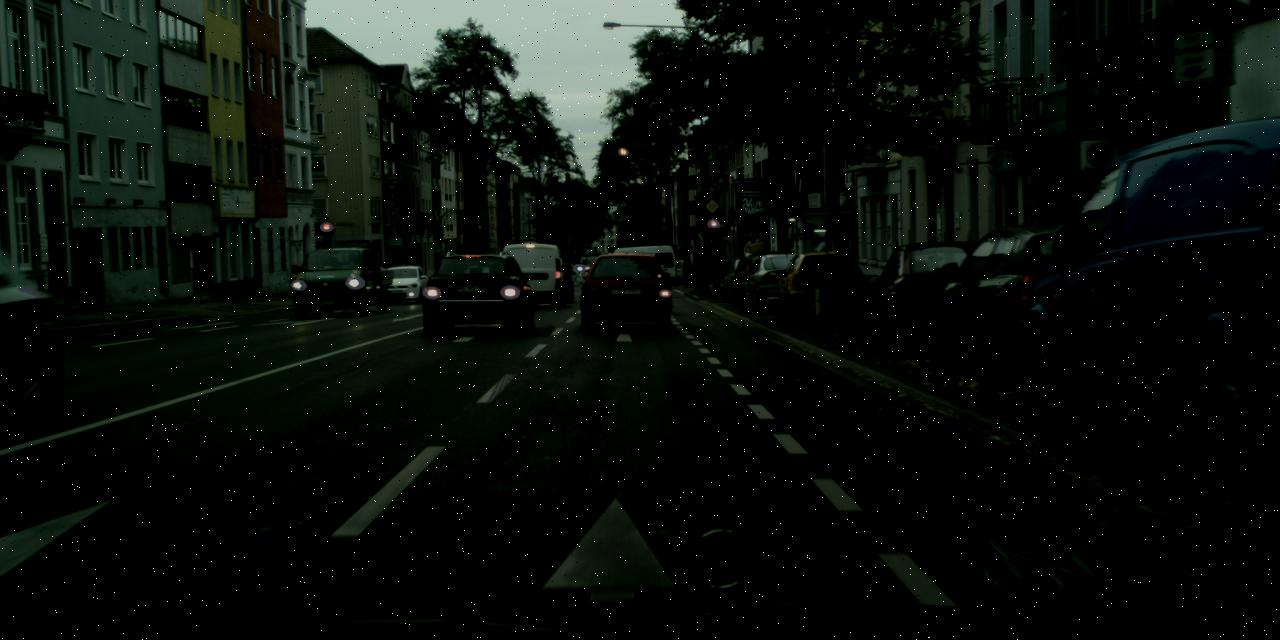ped: (680, 254, 694, 286)
